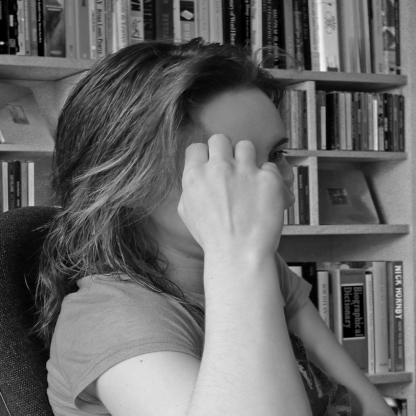book: (0, 0, 407, 80), (305, 260, 406, 379), (273, 81, 413, 155), (0, 80, 63, 150), (323, 171, 379, 227), (282, 161, 314, 225), (0, 158, 38, 211), (284, 264, 301, 274)
